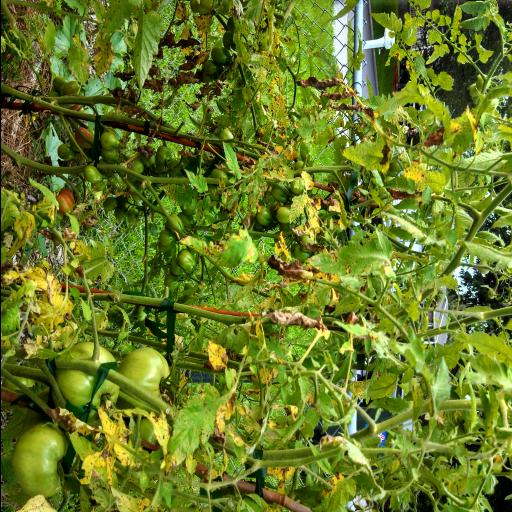disease_tomato: (164, 383, 236, 476), (300, 236, 384, 280), (214, 223, 260, 271), (308, 471, 356, 512), (336, 140, 392, 174), (0, 210, 35, 260), (108, 482, 152, 512), (160, 182, 198, 210), (221, 140, 241, 184), (366, 372, 397, 400), (380, 174, 418, 196), (204, 339, 228, 371), (416, 169, 446, 193), (258, 164, 294, 183), (332, 294, 360, 318), (182, 168, 208, 193), (288, 193, 308, 225), (193, 195, 211, 229), (250, 292, 276, 314), (392, 198, 418, 212), (297, 376, 309, 404)
